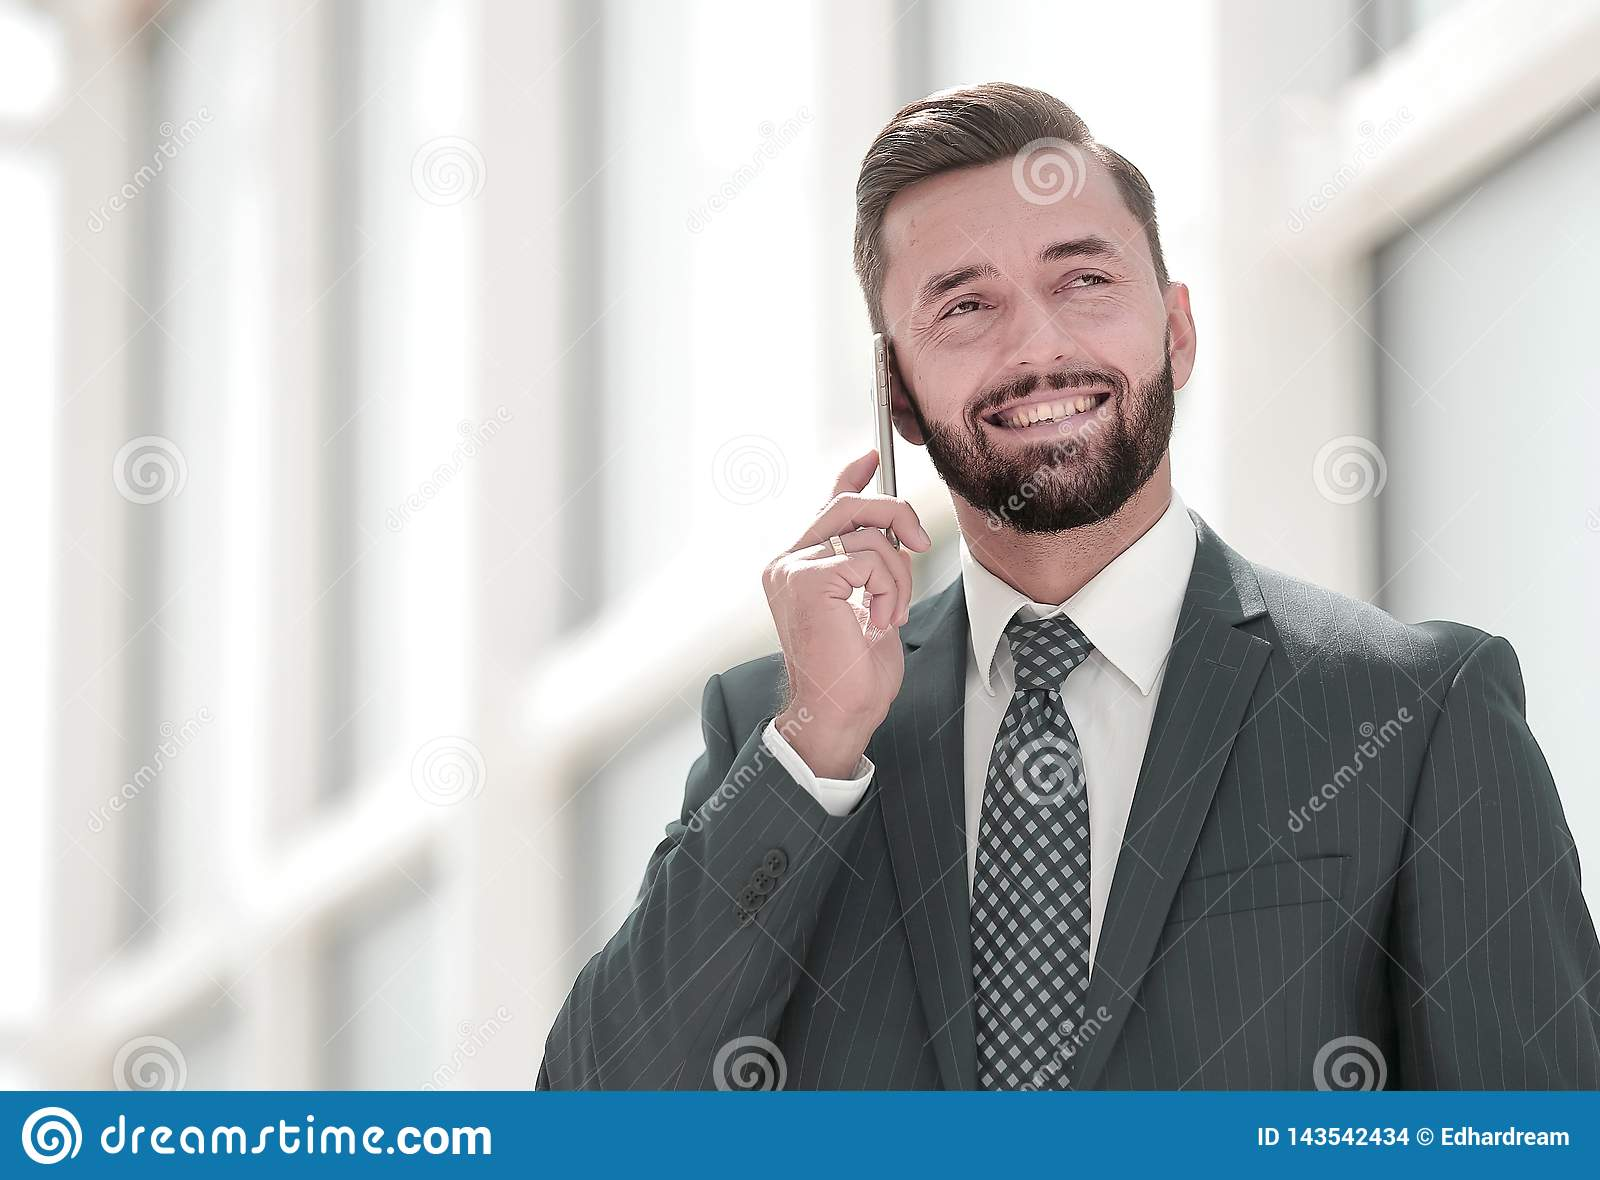phone: (870, 332, 914, 561)
talk: (758, 226, 1161, 745)
